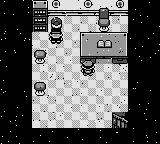leer: (50, 18, 62, 31)
main: (81, 61, 95, 75)
no-caminable: (1, 0, 160, 143), (80, 33, 127, 63), (48, 0, 128, 15), (33, 1, 47, 31)
npc: (49, 29, 63, 43)
puerta: (112, 112, 128, 128)
